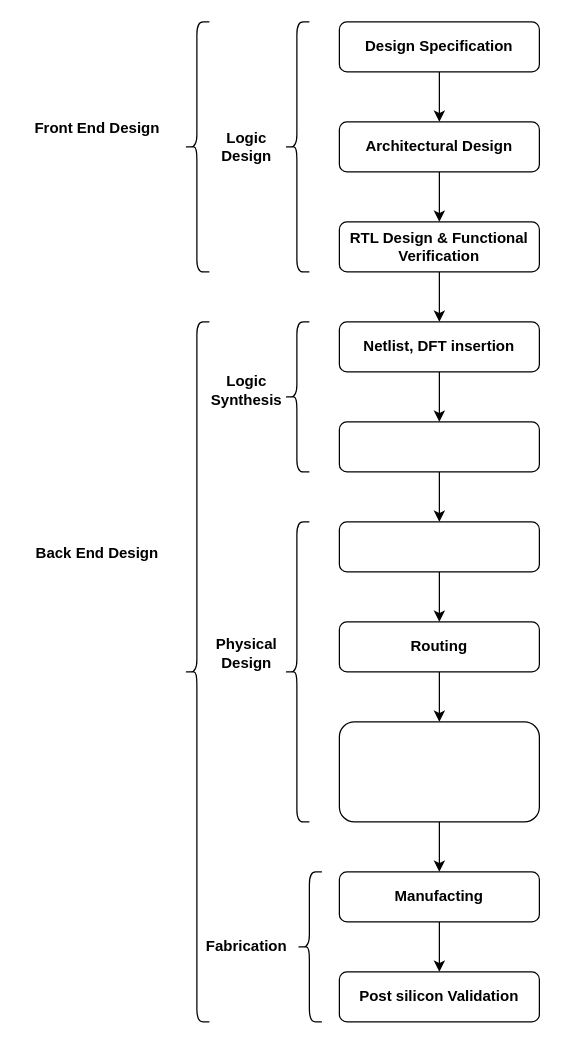
This 561x1044 diagram has some shape labels left out. Each missing label, with the centre of its shape:
"Clock tree Synthesis & Sign-off checks (DRC, LVS, Power, Timing...)" belongs at point (438, 771).
"Floor Planning & Placement" belongs at point (438, 546).
"Formal Verification" belongs at point (438, 446).
